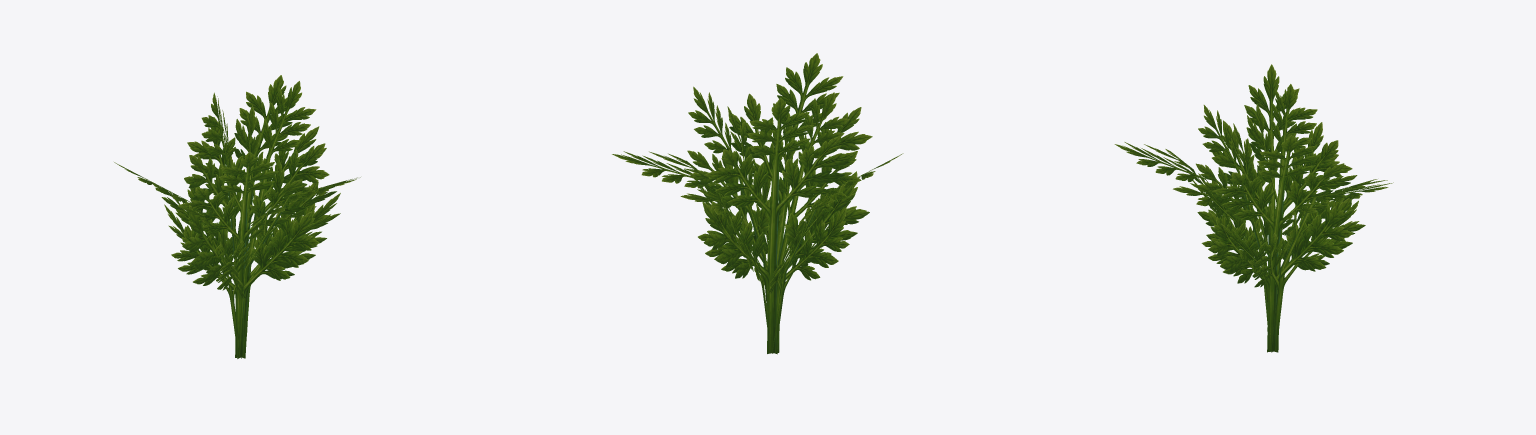
File: CarrotPlant03.fbx
The picture shows the model from 3 angles, left to right: view 1: azimuth 30°, elevation 25°; view 2: azimuth 150°, elevation 25°; view 3: azimuth 270°, elevation 25°; orthographic projection. The views are drawn at different scales.
Visible parts, largest first — view 1: CarrotPlant03_LOD0; view 2: CarrotPlant03_LOD0; view 3: CarrotPlant03_LOD0.
Boxes of the visible parts, x1,y1,x2,y2 form: CarrotPlant03_LOD0: [114, 75, 360, 358]; CarrotPlant03_LOD0: [612, 53, 903, 354]; CarrotPlant03_LOD0: [1114, 64, 1393, 352].
Size of what is drawn, in the model's own units: 0.9788 by 0.6592 by 1.11.
